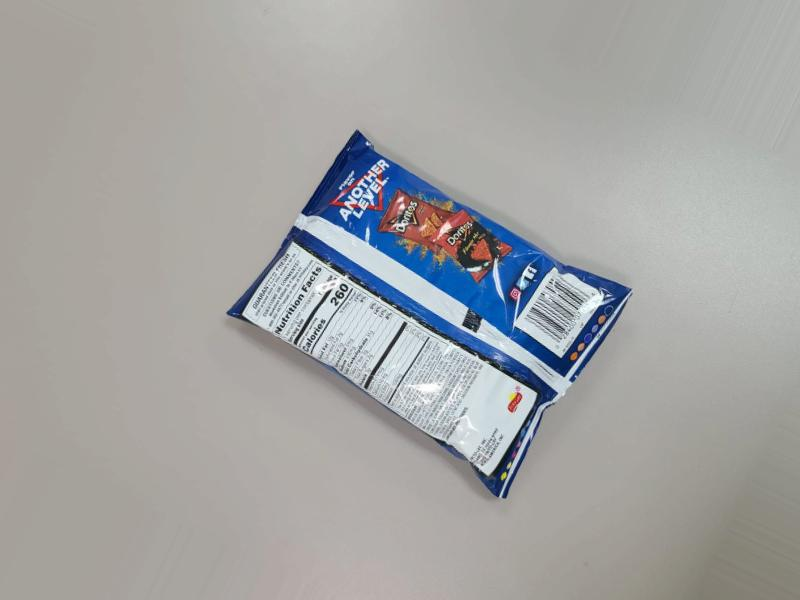doritos: (238, 103, 608, 508)
